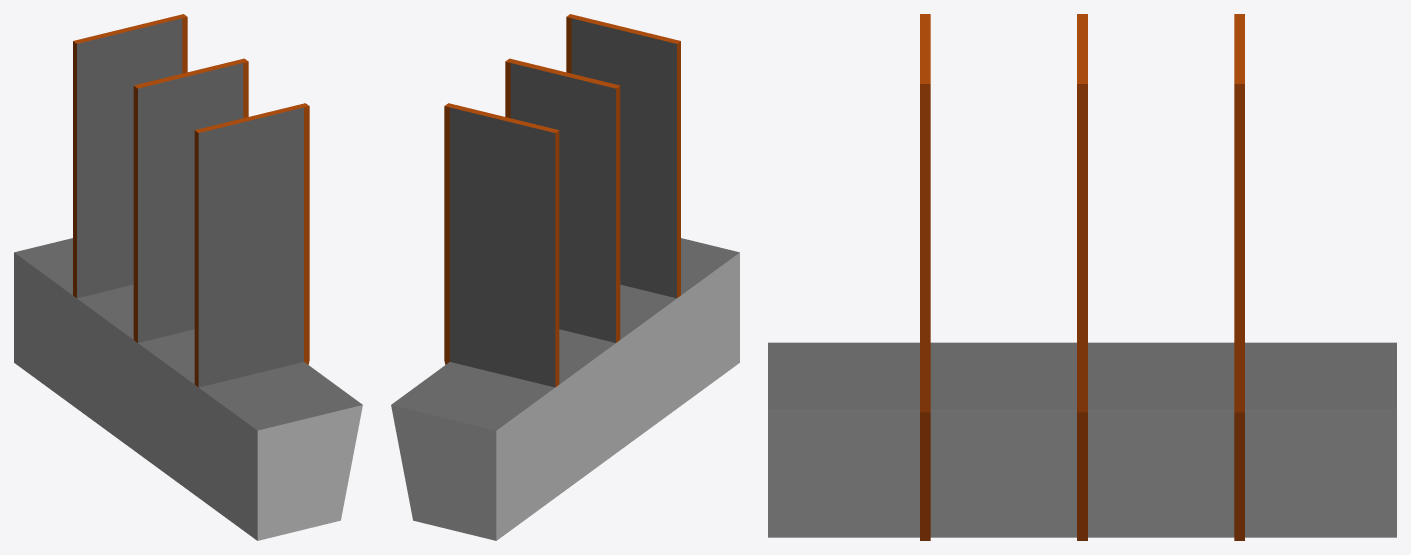
The model's file is ShootingRange.fbx.
The picture shows the model from 3 angles, left to right: view 1: azimuth 30°, elevation 25°; view 2: azimuth 150°, elevation 25°; view 3: azimuth 270°, elevation 25°; orthographic projection. The views are drawn at different scales.
Visible parts, largest first — view 1: Cube; view 2: Cube; view 3: Cube.
Boxes of the visible parts, box(x1,y1,x2,y2) form: Cube: box(14, 14, 362, 540); Cube: box(391, 14, 739, 540); Cube: box(768, 14, 1396, 540).
Bounding box in the file's own units: 105 × 331 × 400.
